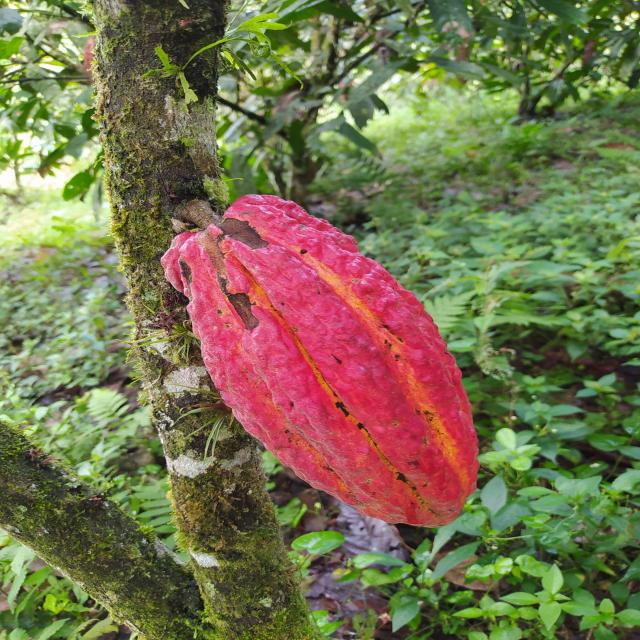Sana: (160, 190, 480, 530)
